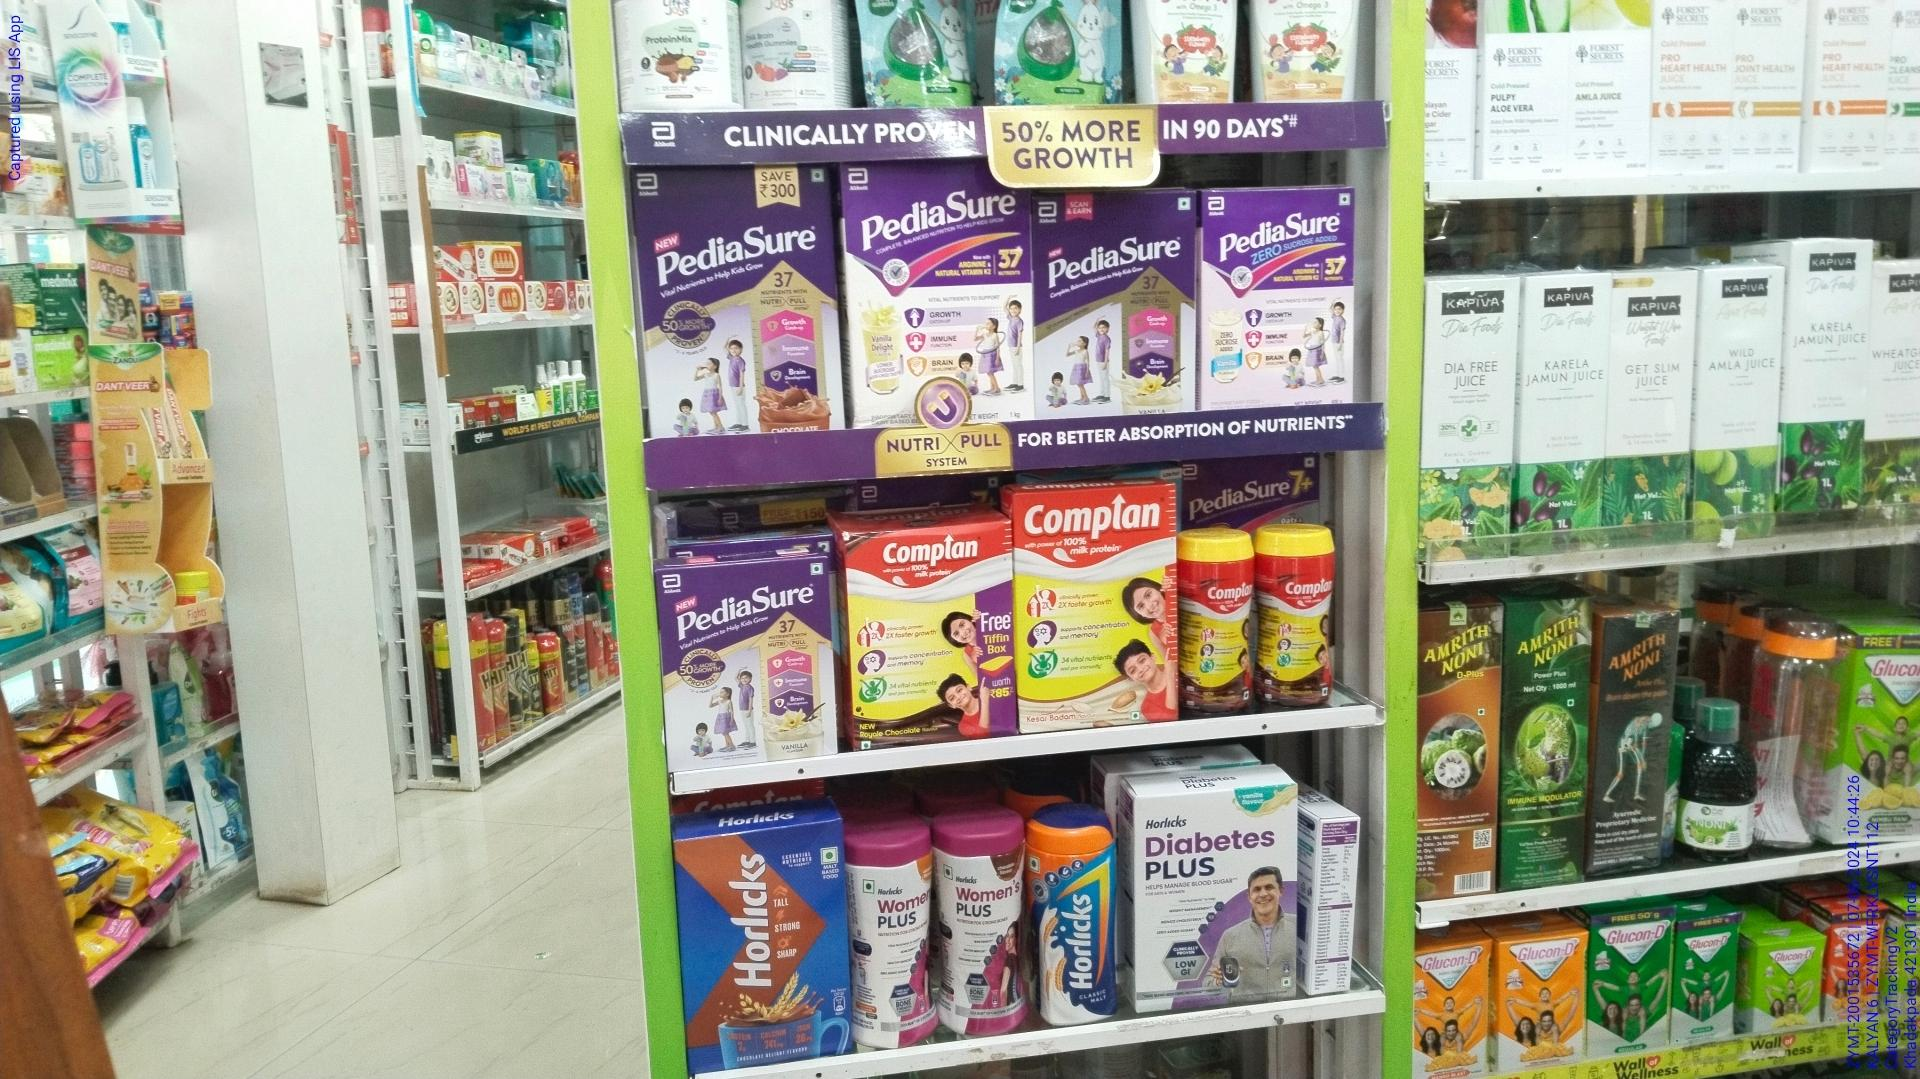HORLICK_CLASSIC_MALT_500_G_JAR: (1034, 803, 1117, 1032)
PEDIASURE_CHOCOLATE_500_G_PACK: (636, 168, 844, 434)
PEDIASURE_VANILLA_500_G_PACK: (669, 551, 831, 772), (1036, 191, 1196, 413)
